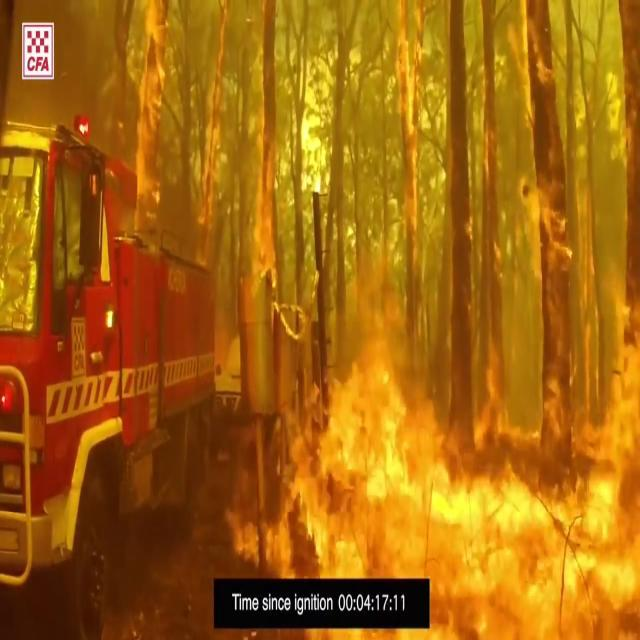Fire: (455, 128, 640, 640), (244, 330, 496, 561)
